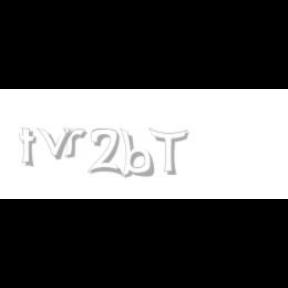2: (87, 128, 121, 176)
T: (148, 128, 188, 176)
b: (119, 128, 157, 178)
r: (62, 128, 90, 158)
t: (19, 128, 41, 168)
v: (36, 128, 76, 160)
